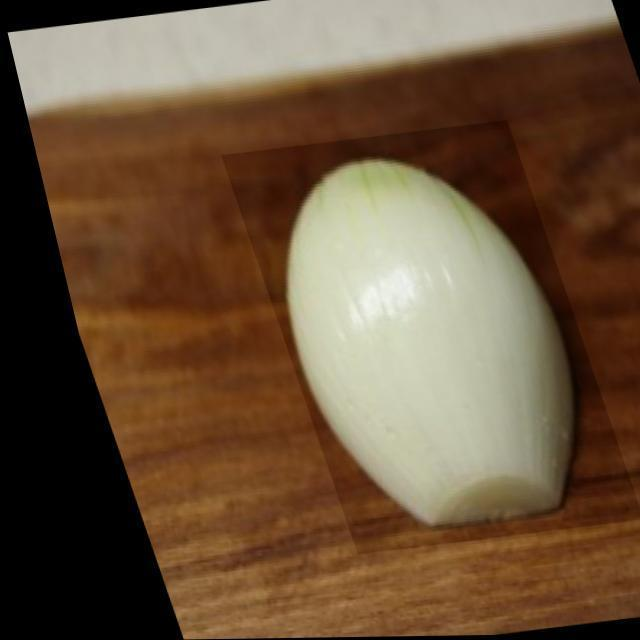Onion: (207, 121, 624, 556)
